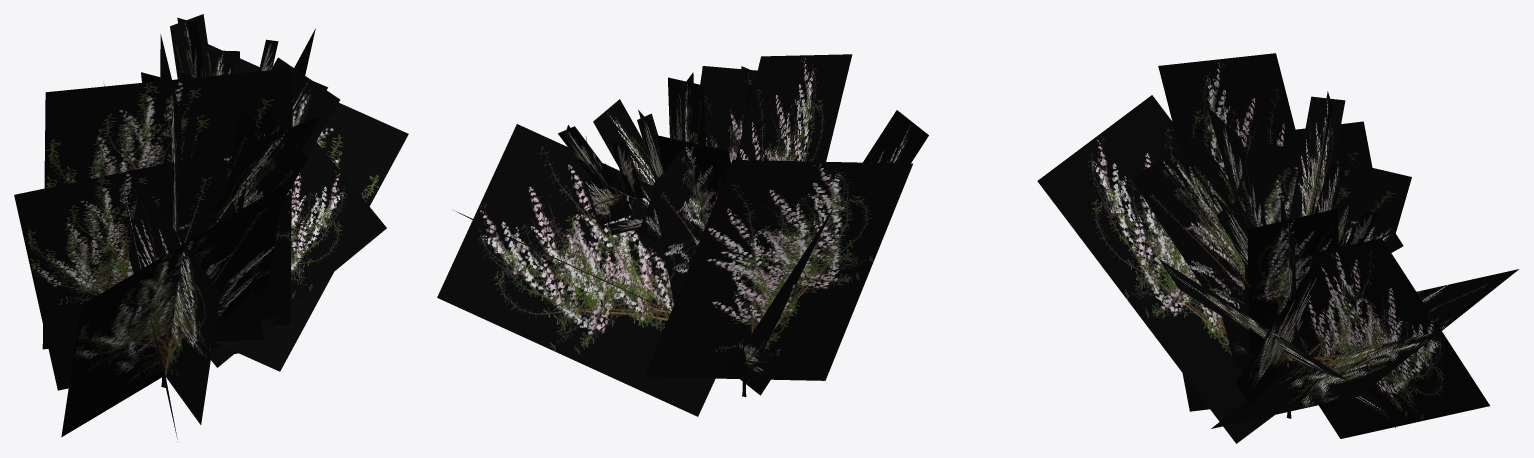
File: heather_summer_fall.glb
The picture shows the model from 3 angles, left to right: view 1: azimuth 30°, elevation 25°; view 2: azimuth 150°, elevation 25°; view 3: azimuth 270°, elevation 25°; orthographic projection. The views are drawn at different scales.
Parts seen in each view (by area): view 1: 2_Leaves; view 2: 2_Leaves; view 3: 2_Leaves.
Part boxes in pixels (x1=…): 2_Leaves: x1=14, y1=14, x2=408, y2=441; 2_Leaves: x1=437, y1=54, x2=928, y2=416; 2_Leaves: x1=1037, y1=53, x2=1518, y2=443.
Bounding box in the file's own units: 89.67 × 71.64 × 81.33.
Materials: 1 (1 with a texture image).
